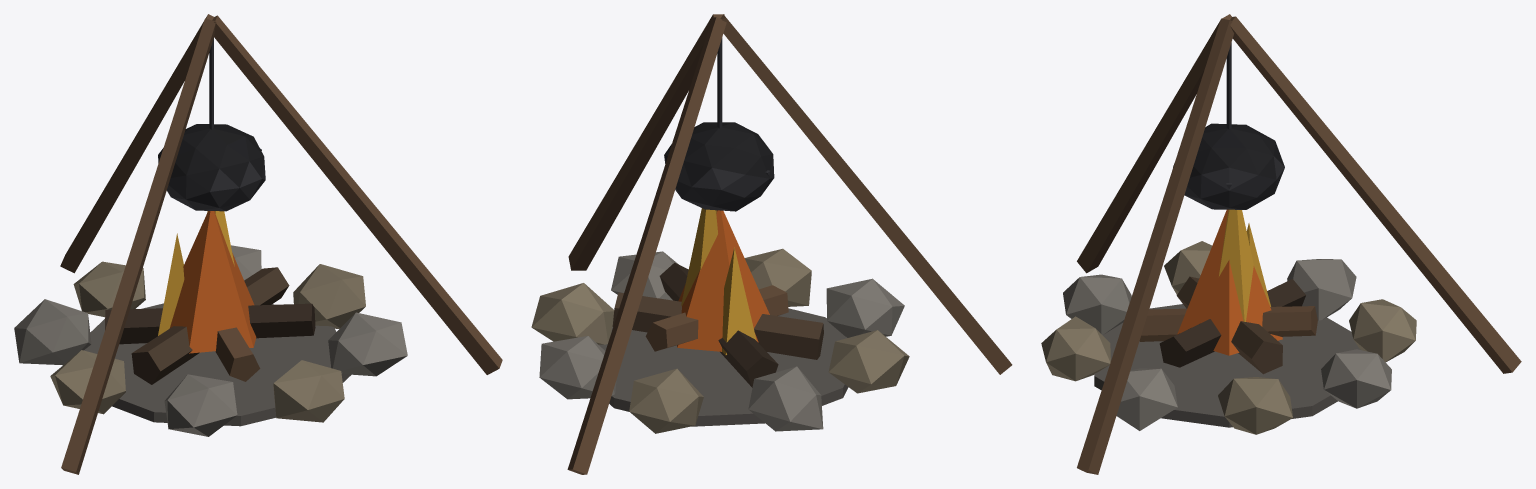
The model's file is campfire.glb.
3 views of the same model, side by side, from view 1: azimuth 30°, elevation 25°; view 2: azimuth 150°, elevation 25°; view 3: azimuth 270°, elevation 25° (orthographic).
Visible parts, largest first — view 1: campfire; view 2: campfire; view 3: campfire.
Boxes of the visible parts, x1,y1,x2,y2 form: campfire: [14, 14, 502, 474]; campfire: [531, 14, 1012, 474]; campfire: [1041, 14, 1521, 474].
Size of the model in its own units: 1.8 by 1.39 by 1.7.
